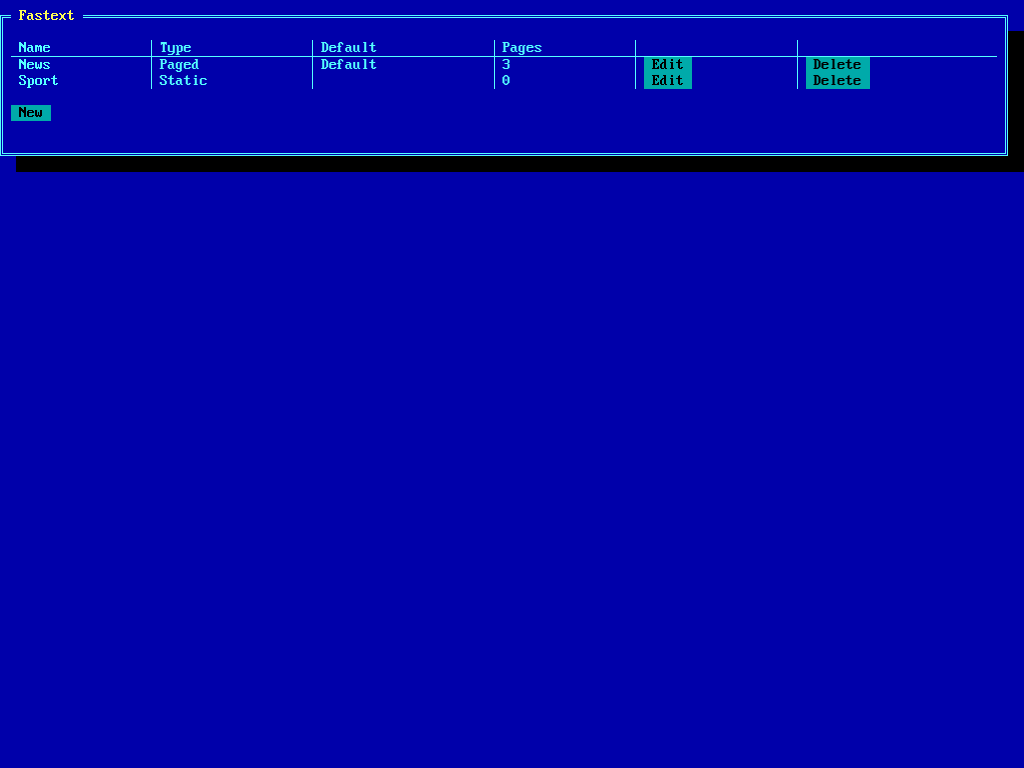
Test case: saving a paged group sends the slots and 8ff in them
Click the button "New" at (31, 113), box [11,105,51,121]
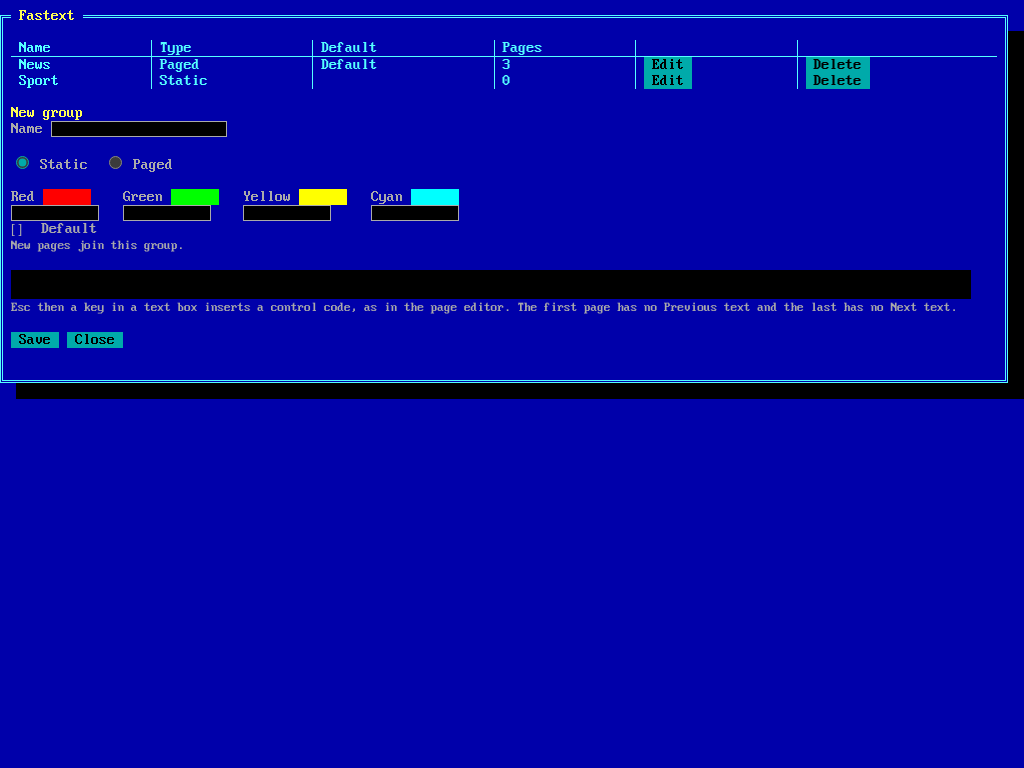
Type "News" into the field named "name" at (139, 129), box [51,121,227,137]
Click the radio button named "kind" at (116, 162), box [109,156,122,169]
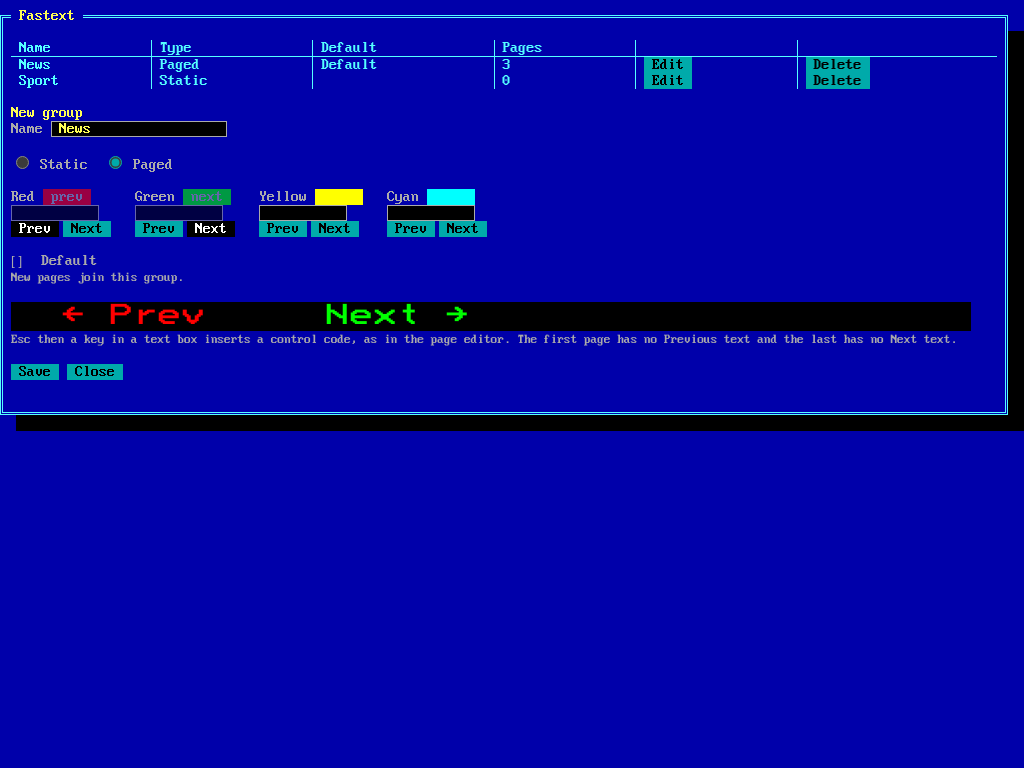
Type "300" into the field labelled "Yellow" at (339, 197), box [315,189,363,205]
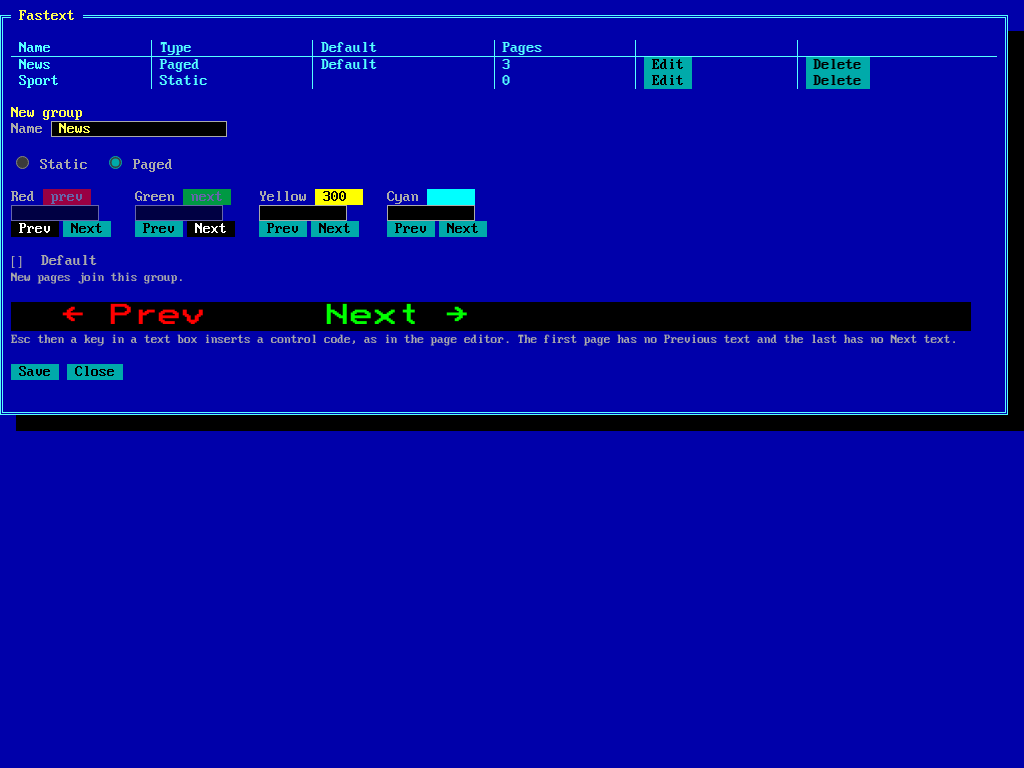
Type "400" into the field labelled "Cyan" at (451, 197), box [427,189,475,205]
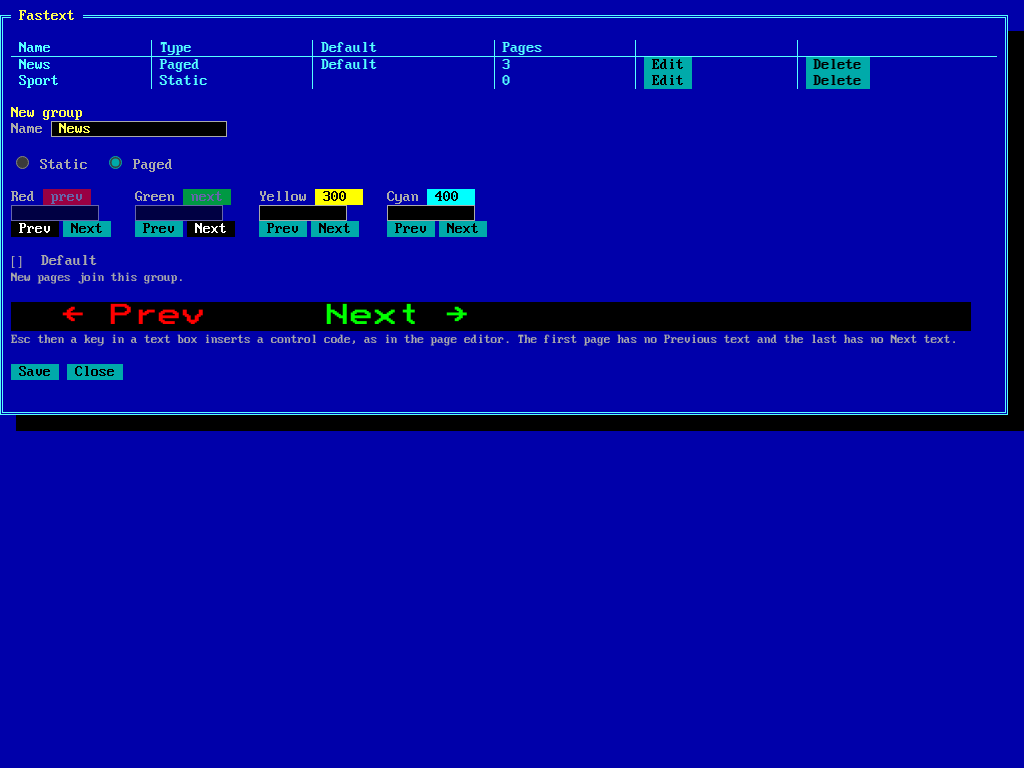
Click the checkbox named "default" at (22, 260), box [11,253,33,266]
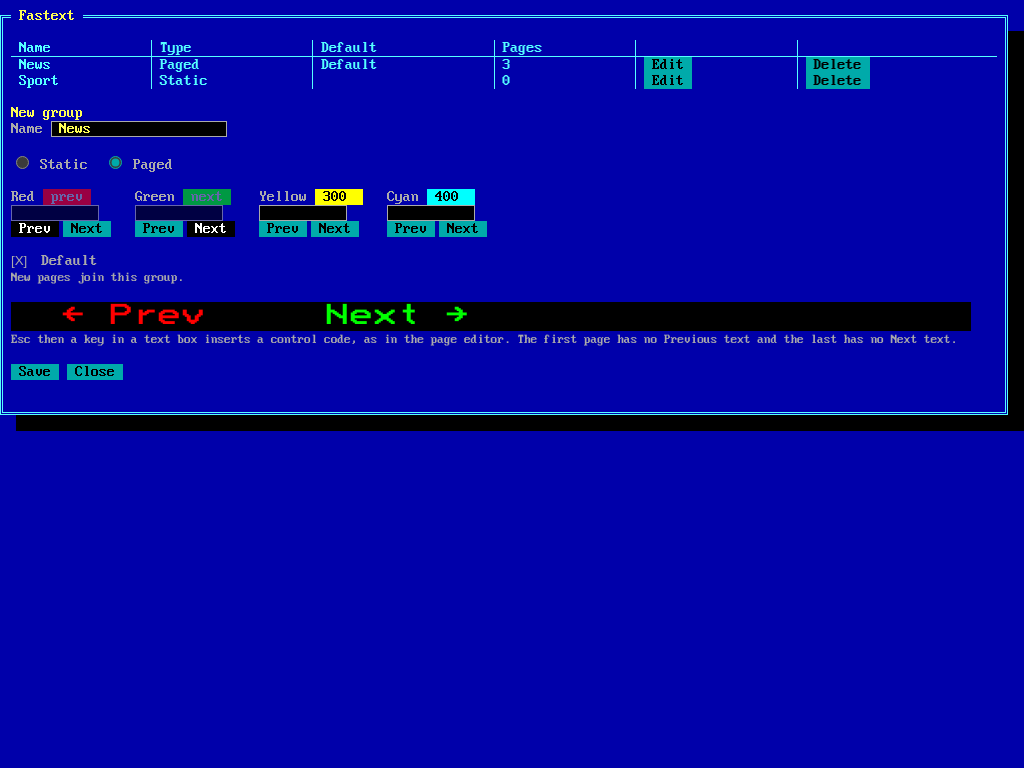
Submit the form, box [11,105,997,380]
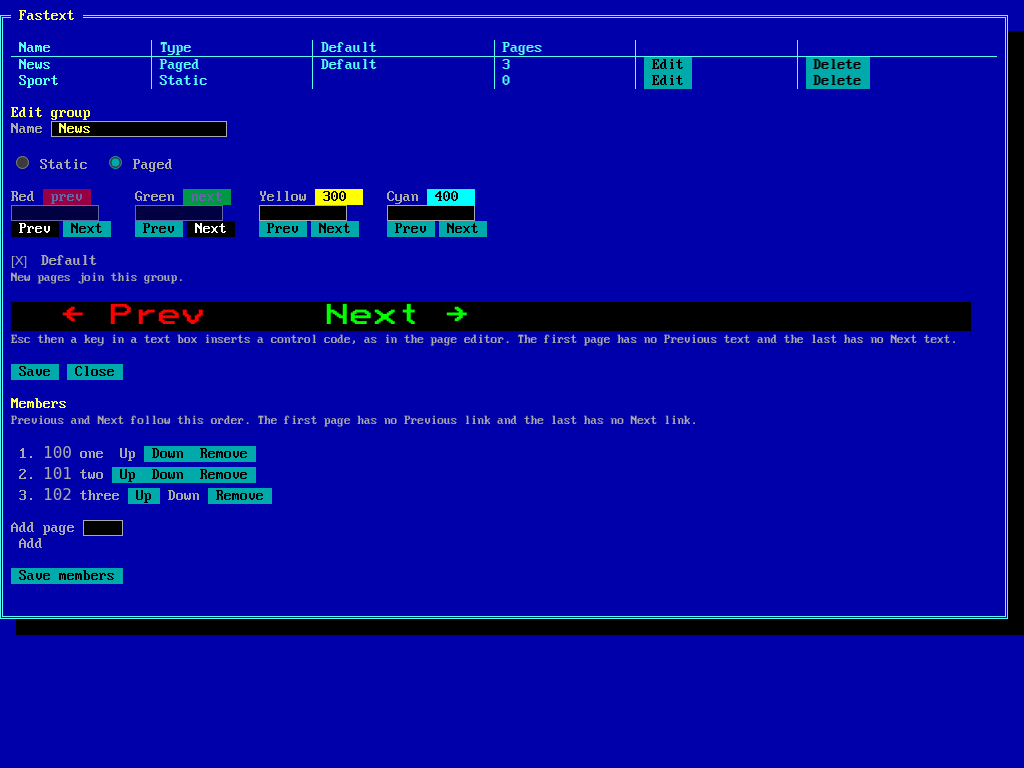
expect the text "Members" is shown: met, box [11,396,67,412]
